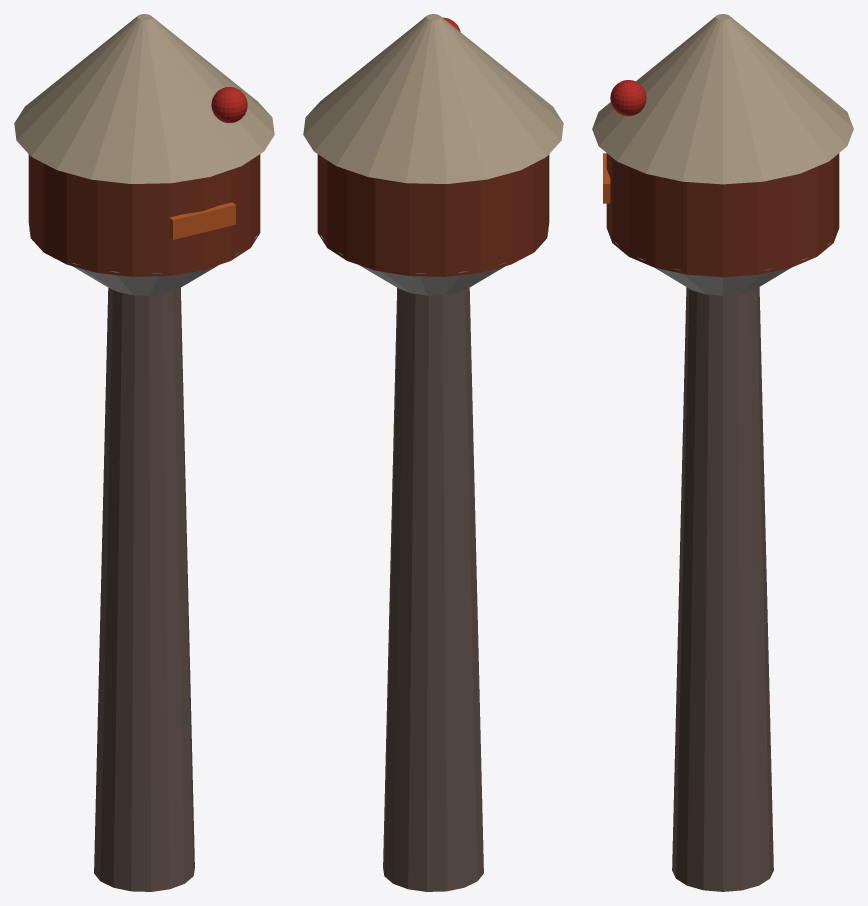
File: water_tower_script.glb
3 views of the same model, side by side, from view 1: azimuth 30°, elevation 25°; view 2: azimuth 150°, elevation 25°; view 3: azimuth 270°, elevation 25° (orthographic).
Parts seen in each view (by area): view 1: Cone, Cone.002, Cylinder, Cone.001, Cube, Sphere; view 2: Cone, Cone.002, Cylinder, Cone.001; view 3: Cone, Cone.002, Cylinder, Cone.001, Sphere.
Part boxes in pixels (x1,y1,x2,y2): Cone: [94, 287, 194, 891]; Cone.002: [14, 14, 274, 183]; Cylinder: [28, 154, 260, 276]; Cone.001: [29, 228, 257, 295]; Cube: [169, 202, 235, 239]; Sphere: [211, 87, 247, 122]; Cone: [383, 287, 483, 891]; Cone.002: [303, 14, 563, 183]; Cylinder: [317, 154, 549, 276]; Cone.001: [320, 228, 548, 295]; Cone: [672, 287, 773, 891]; Cone.002: [592, 14, 853, 184]; Cylinder: [606, 153, 839, 276]; Cone.001: [615, 242, 830, 295]; Sphere: [610, 80, 646, 116].
Size of the model in its own units: 7.2 by 25.9 by 7.2.
